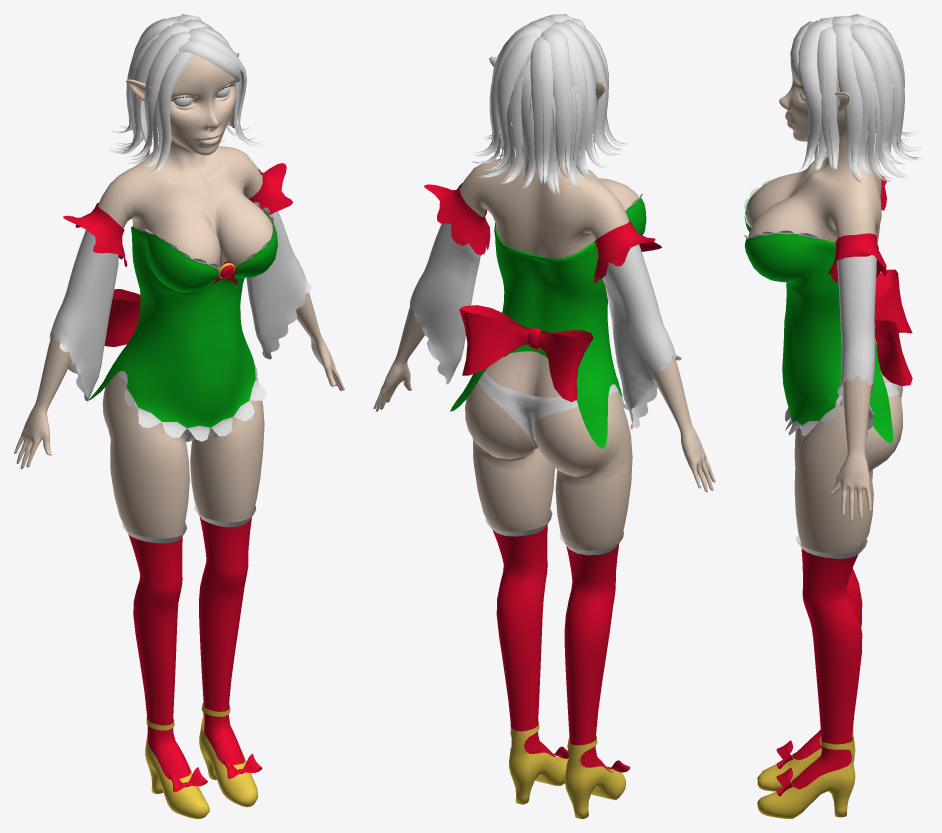
File: Wichtel.fbx
The picture shows the model from 3 angles, left to right: view 1: azimuth 30°, elevation 25°; view 2: azimuth 150°, elevation 25°; view 3: azimuth 270°, elevation 25°; orthographic projection. The views are drawn at different scales.
Parts seen in each view (by area): view 1: Body, Kleid, Haare-Mesh; view 2: Body, Kleid, Haare-Mesh, Pantsu; view 3: Body, Kleid, Haare-Mesh.
Part boxes in pixels (x1,y1,x2,y2): Body: (14,42,344,818); Kleid: (49,163,311,543); Haare-Mesh: (109,14,264,171); Body: (373,54,715,818); Kleid: (410,183,681,555); Haare-Mesh: (471,14,627,195); Pantsu: (478,371,619,448); Body: (747,41,902,818); Kleid: (744,175,912,558); Haare-Mesh: (790,14,922,182).
Size of the model in its own units: 71.87 by 162 by 34.7.
